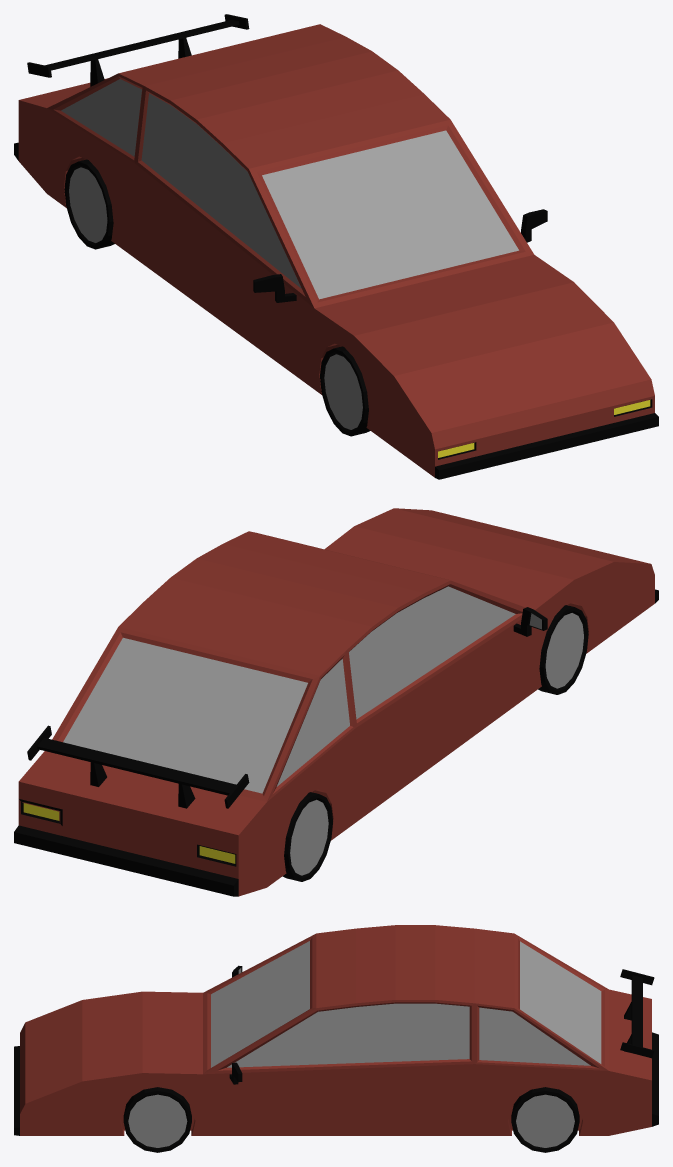
The model's file is Sports Car 1.fbx.
3 views of the same model, one above another, from view 1: azimuth 30°, elevation 25°; view 2: azimuth 150°, elevation 25°; view 3: azimuth 270°, elevation 25° (orthographic). The views are drawn at different scales.
Parts seen in each view (by area): view 1: Sports Car Body.001, Wheel FR.012, Wheel RR.011; view 2: Sports Car Body.001, Wheel FR.012, Wheel RR.011; view 3: Sports Car Body.001, Wheel FL.012, Wheel RL.011.
Boxes of the visible parts, x1=… form: Sports Car Body.001: x1=14, y1=14, x2=658, y2=479; Wheel FR.012: x1=320, y1=346, x2=370, y2=436; Wheel RR.011: x1=64, y1=159, x2=114, y2=249; Sports Car Body.001: x1=14, y1=508, x2=658, y2=896; Wheel FR.012: x1=538, y1=605, x2=588, y2=694; Wheel RR.011: x1=282, y1=792, x2=332, y2=881; Sports Car Body.001: x1=14, y1=925, x2=658, y2=1135; Wheel FL.012: x1=123, y1=1087, x2=191, y2=1152; Wheel RL.011: x1=511, y1=1087, x2=579, y2=1152.
Size of the model in its own units: 1.82 by 1.16 by 4.56.
